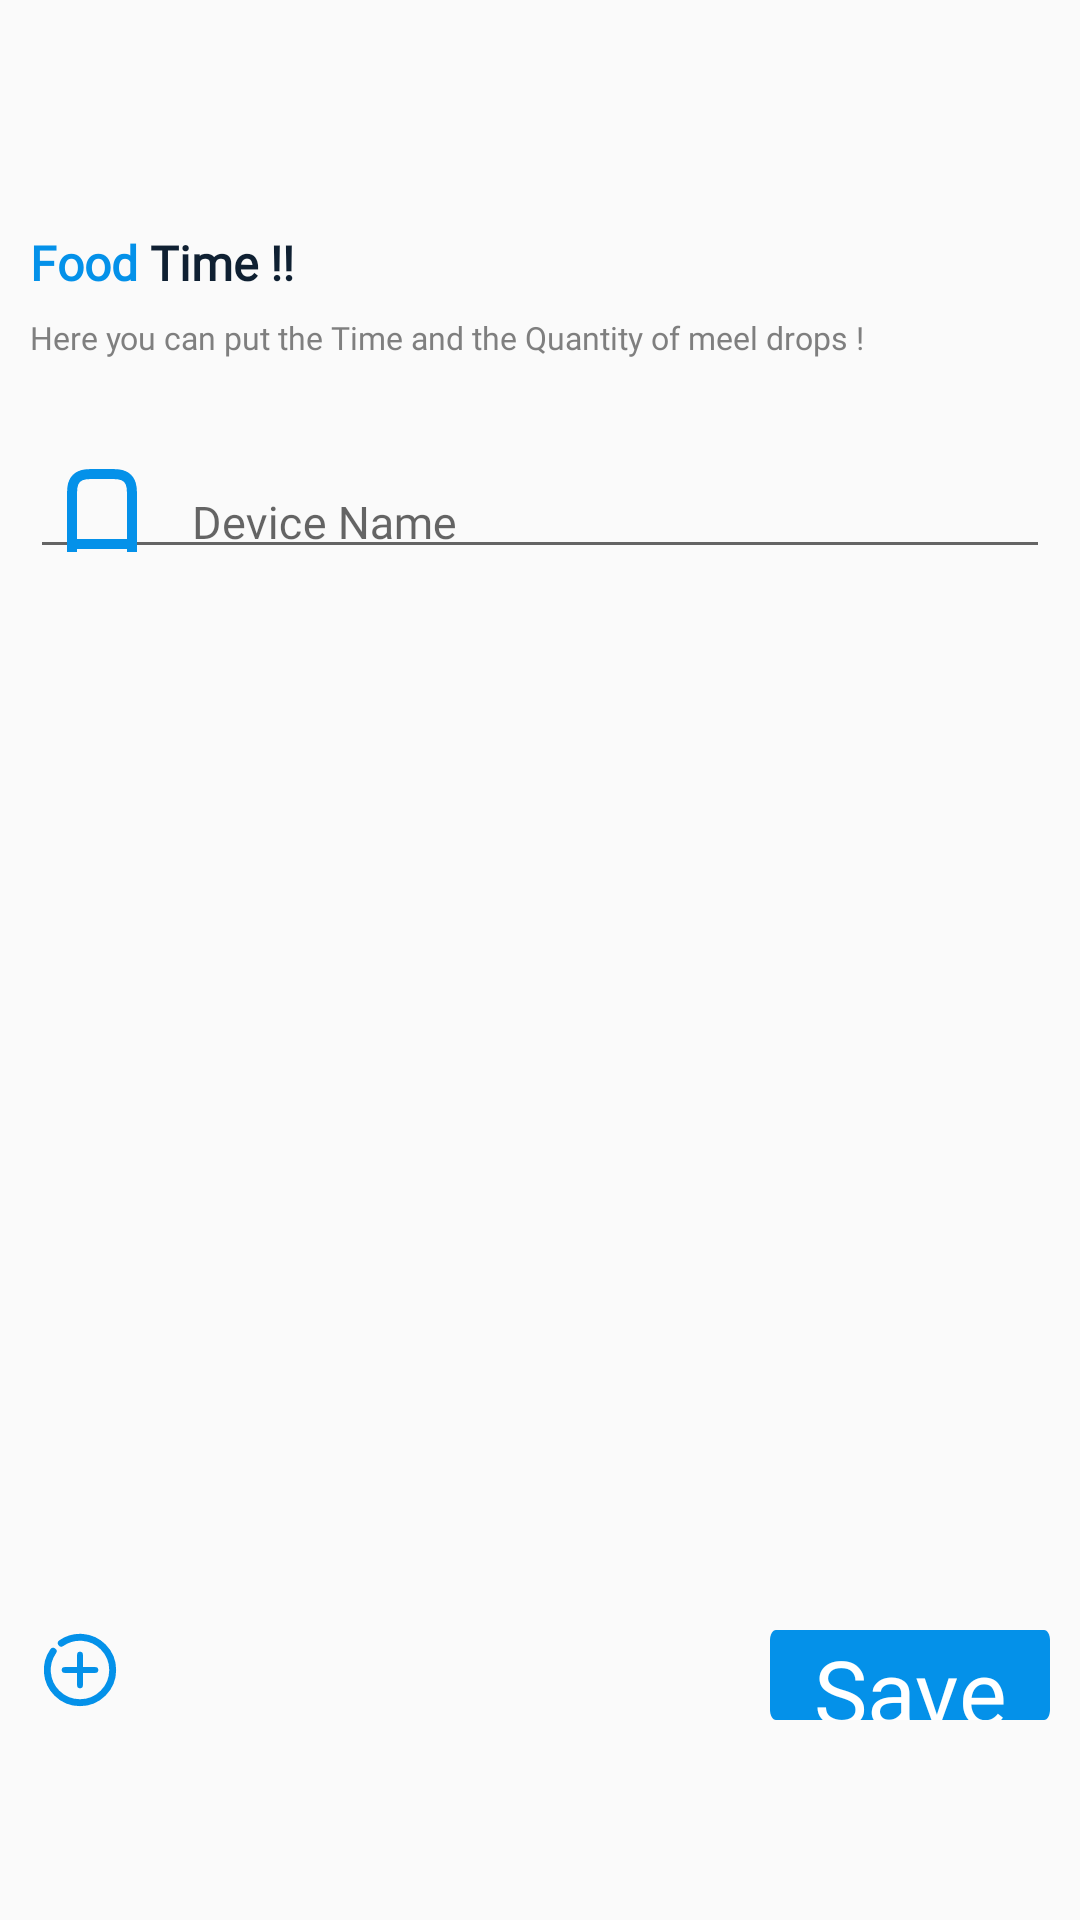

Icons on this 1080 × 1920 Android screen, each with the point to tap as (x=x, y=y):
add round broken line: (x=80, y=1669)
